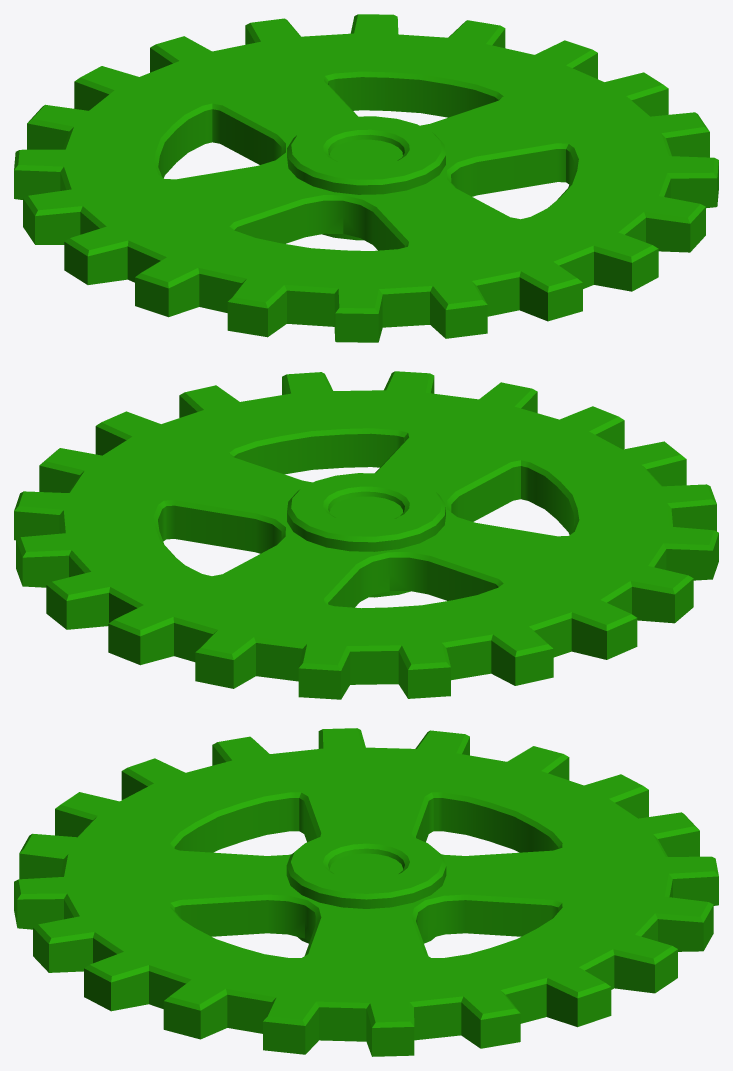
The model's file is geo_gear_grosse.fbx.
3 renders of one model, top to bottom at view 1: azimuth 30°, elevation 25°; view 2: azimuth 150°, elevation 25°; view 3: azimuth 270°, elevation 25°, orthographic.
Parts seen in each view (by area): view 1: geo_gear_grosse; view 2: geo_gear_grosse; view 3: geo_gear_grosse.
Part boxes in pixels (x1,y1,x2,y2): geo_gear_grosse: [14, 14, 718, 342]; geo_gear_grosse: [14, 371, 718, 699]; geo_gear_grosse: [14, 728, 718, 1056].
Bounding box in the file's own units: 5.76 × 0.5305 × 5.75.
